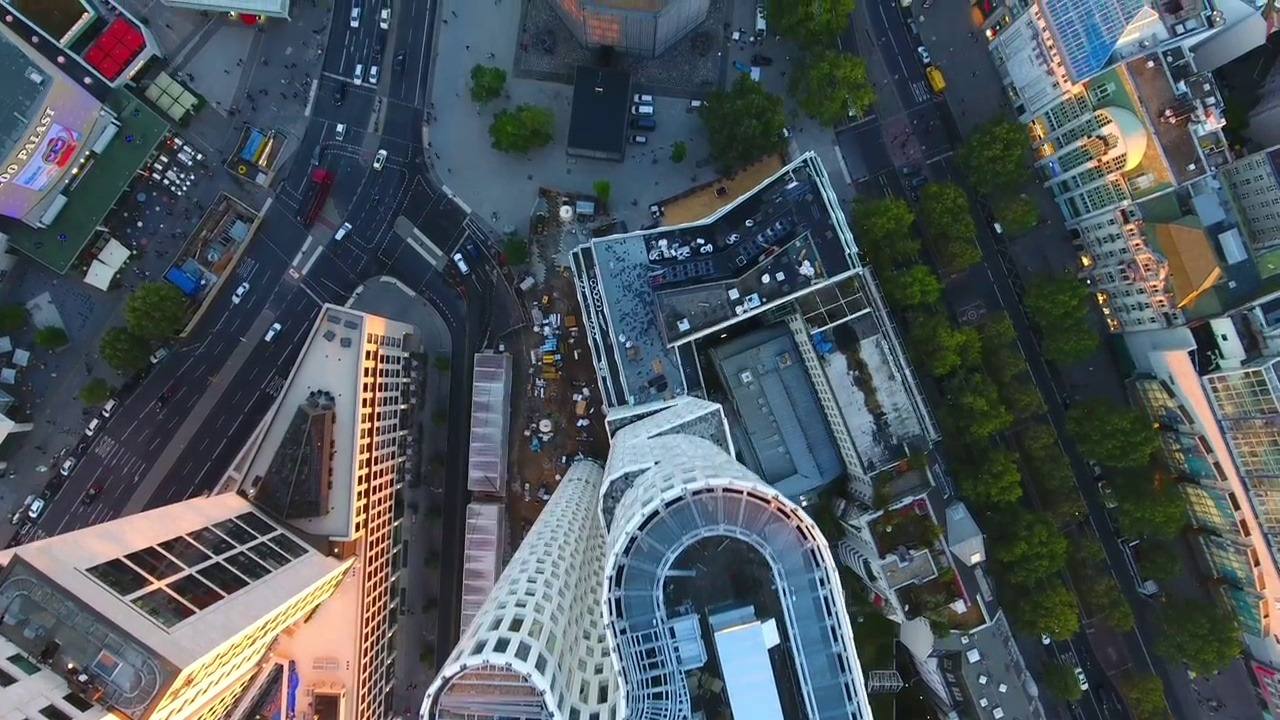car: (227, 275, 255, 310), (342, 1, 369, 33), (367, 142, 391, 176), (331, 215, 356, 247), (375, 3, 397, 36), (261, 317, 286, 346), (364, 56, 381, 86), (351, 57, 365, 86)
